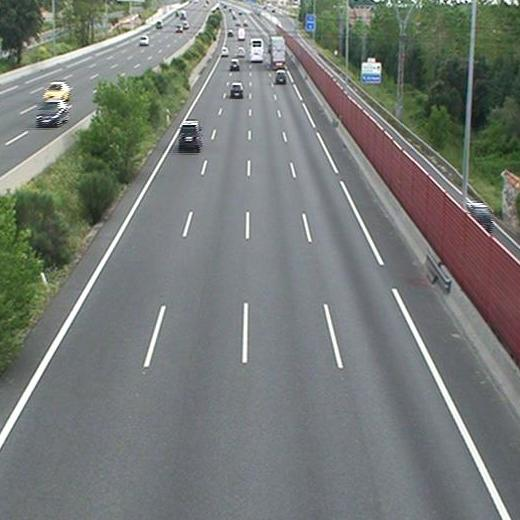bus: (249, 39, 263, 63)
car: (179, 122, 200, 147), (230, 84, 242, 97), (276, 70, 287, 82), (220, 47, 230, 57), (230, 60, 238, 69), (237, 48, 245, 56)
truck: (271, 37, 285, 66)
van: (238, 27, 245, 41)
